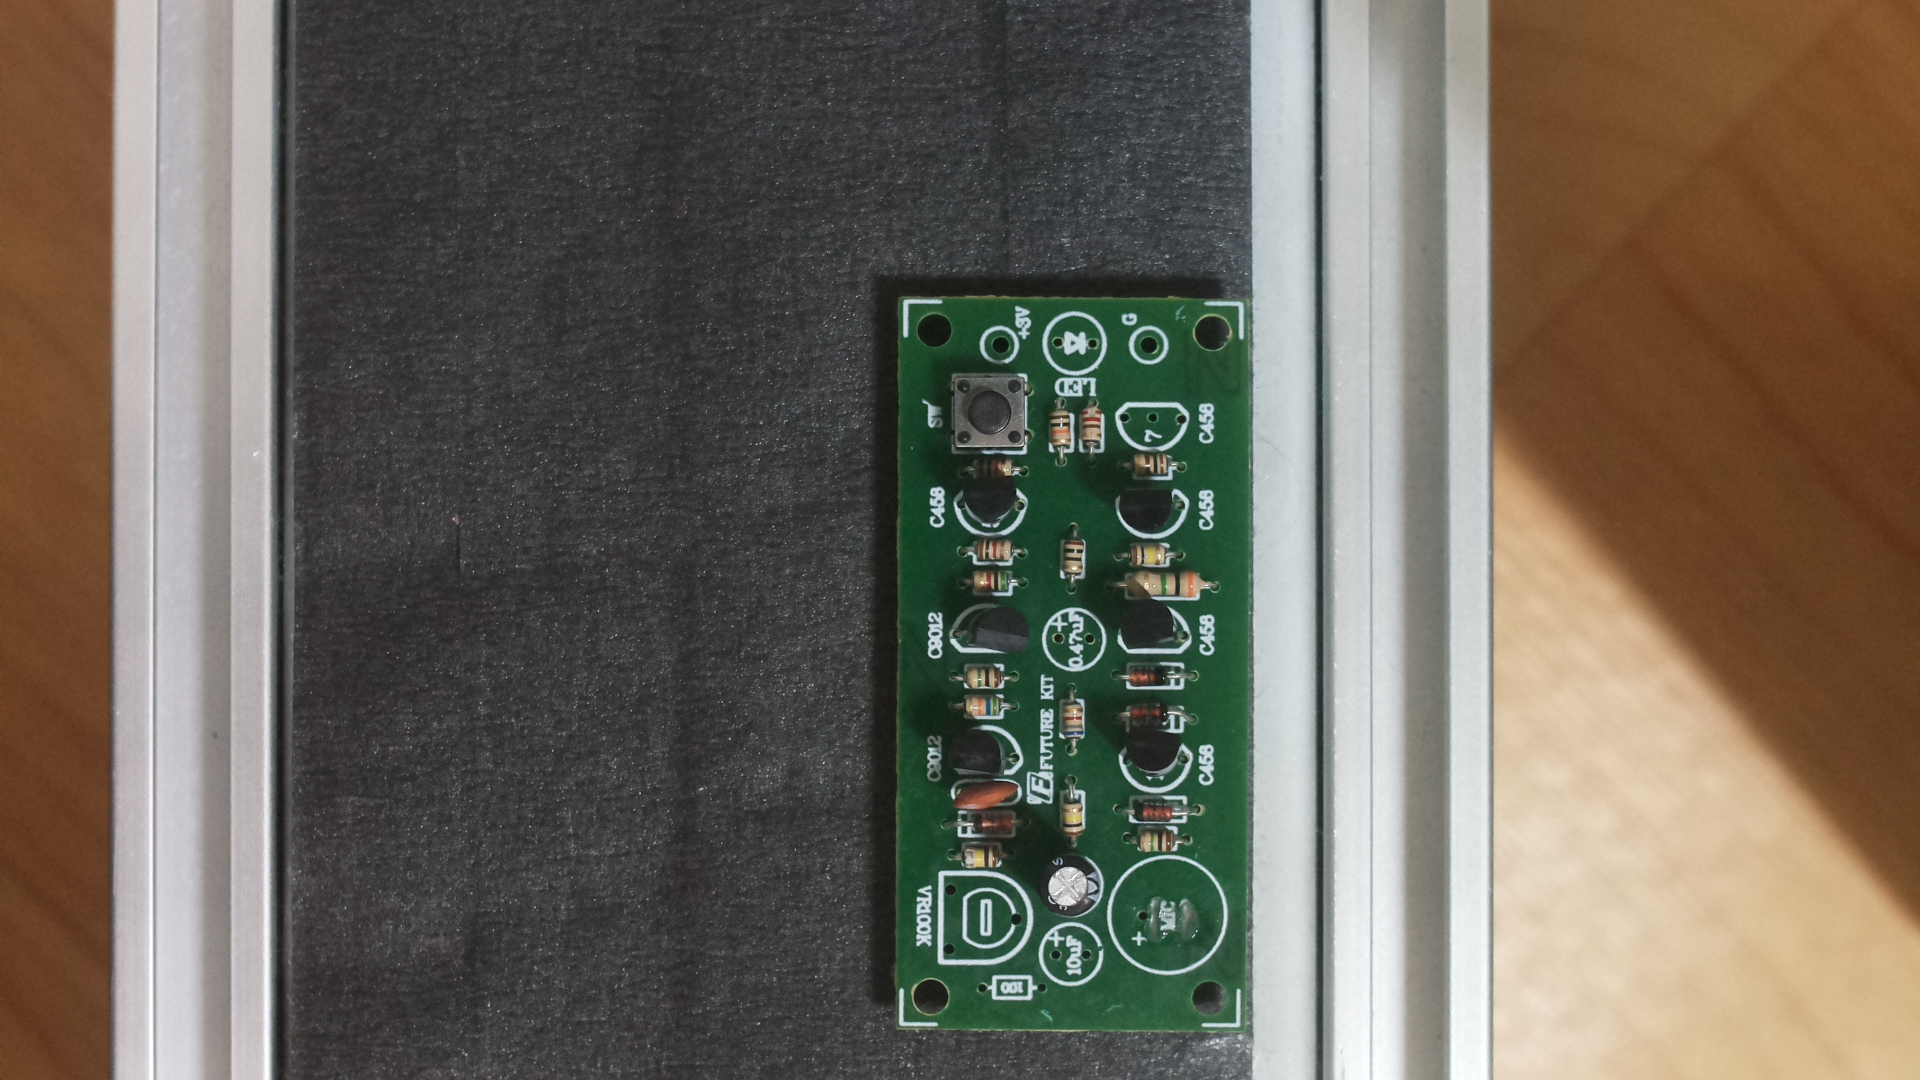A_Missing_part: (885, 280, 1270, 1048)
